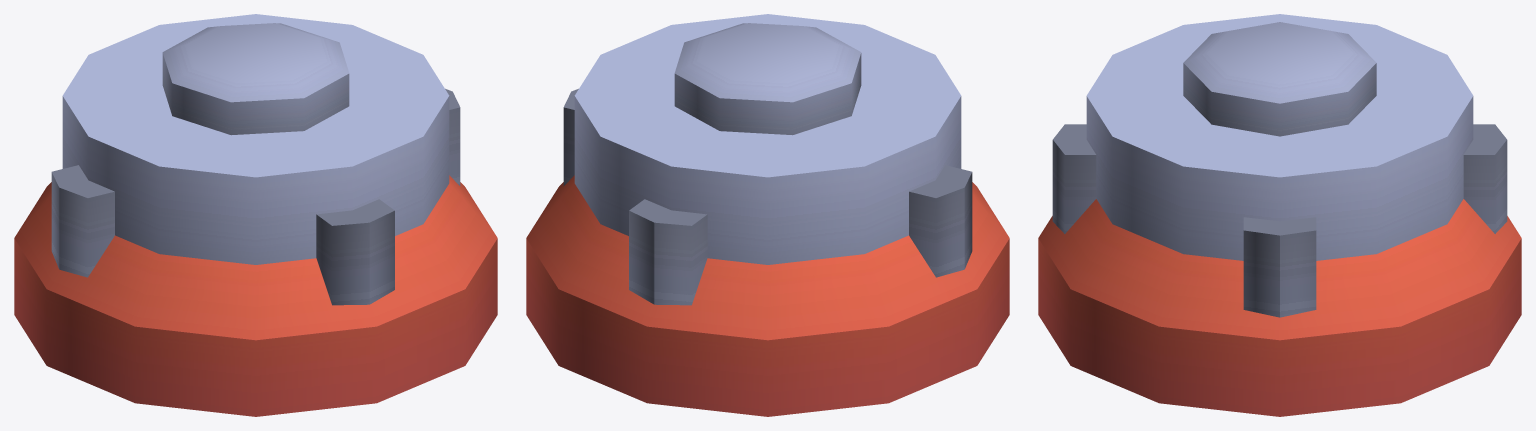
Rendered from p-tower-tower-round-bottom-a.glb.
3 renders of one model, left to right at view 1: azimuth 30°, elevation 25°; view 2: azimuth 150°, elevation 25°; view 3: azimuth 270°, elevation 25°, orthographic.
Visible parts, largest first — view 1: tower-round-bottom-a; view 2: tower-round-bottom-a; view 3: tower-round-bottom-a.
Boxes of the visible parts, x1,y1,x2,y2 form: tower-round-bottom-a: (14,14,497,416); tower-round-bottom-a: (526,14,1009,416); tower-round-bottom-a: (1038,14,1521,416).
Size of the model in its own units: 1 by 0.6001 by 1.
1 material, 1 textured.
